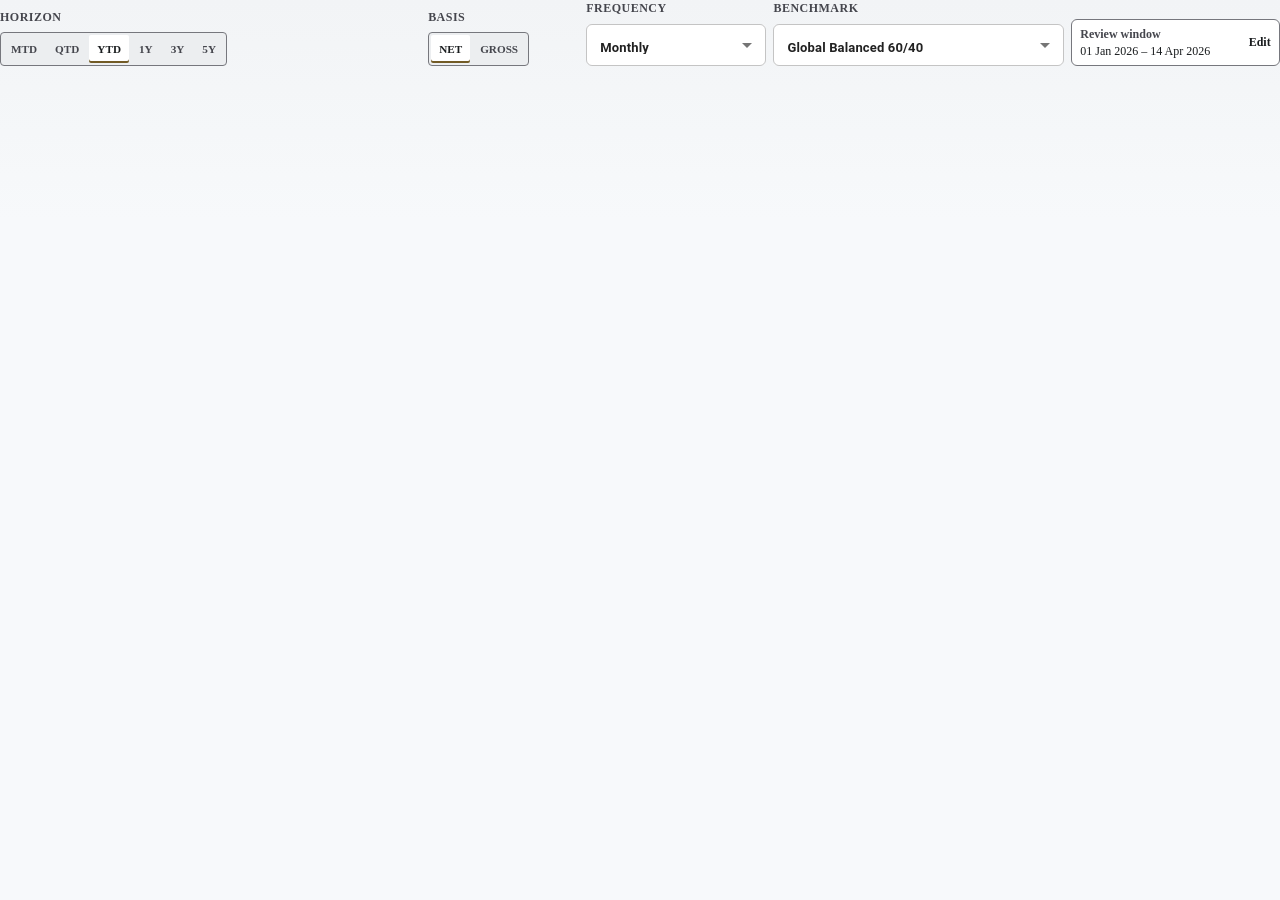
Test case: PerformanceSourceSelectionControls › rejects incomplete, out-of-order, and out-of-bounds drafts before transport
The image size is (1280, 900).
Click the button "Review window 01 Jan 2026 – 14 Apr 2026".
click(1176, 43)  # box left=1071, top=19, right=1279, bottom=66
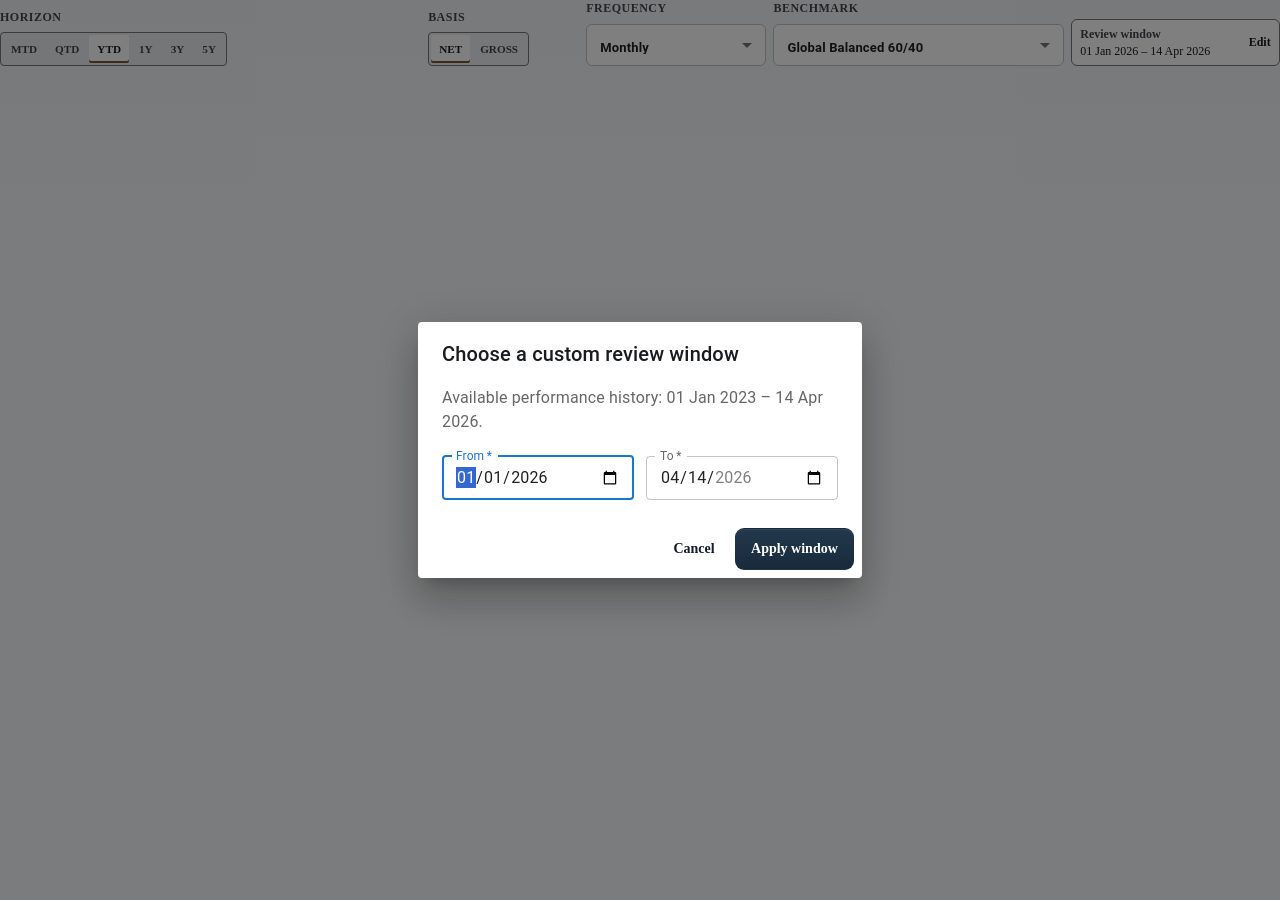
Type "2026-04-10" into the date field labelled "From *".
click(538, 478); type("2026-04-10")  # box left=442, top=458, right=634, bottom=498
Type "2026-03-31" into the date field labelled "To *".
click(742, 478); type("2026-03-31")  # box left=646, top=458, right=838, bottom=498
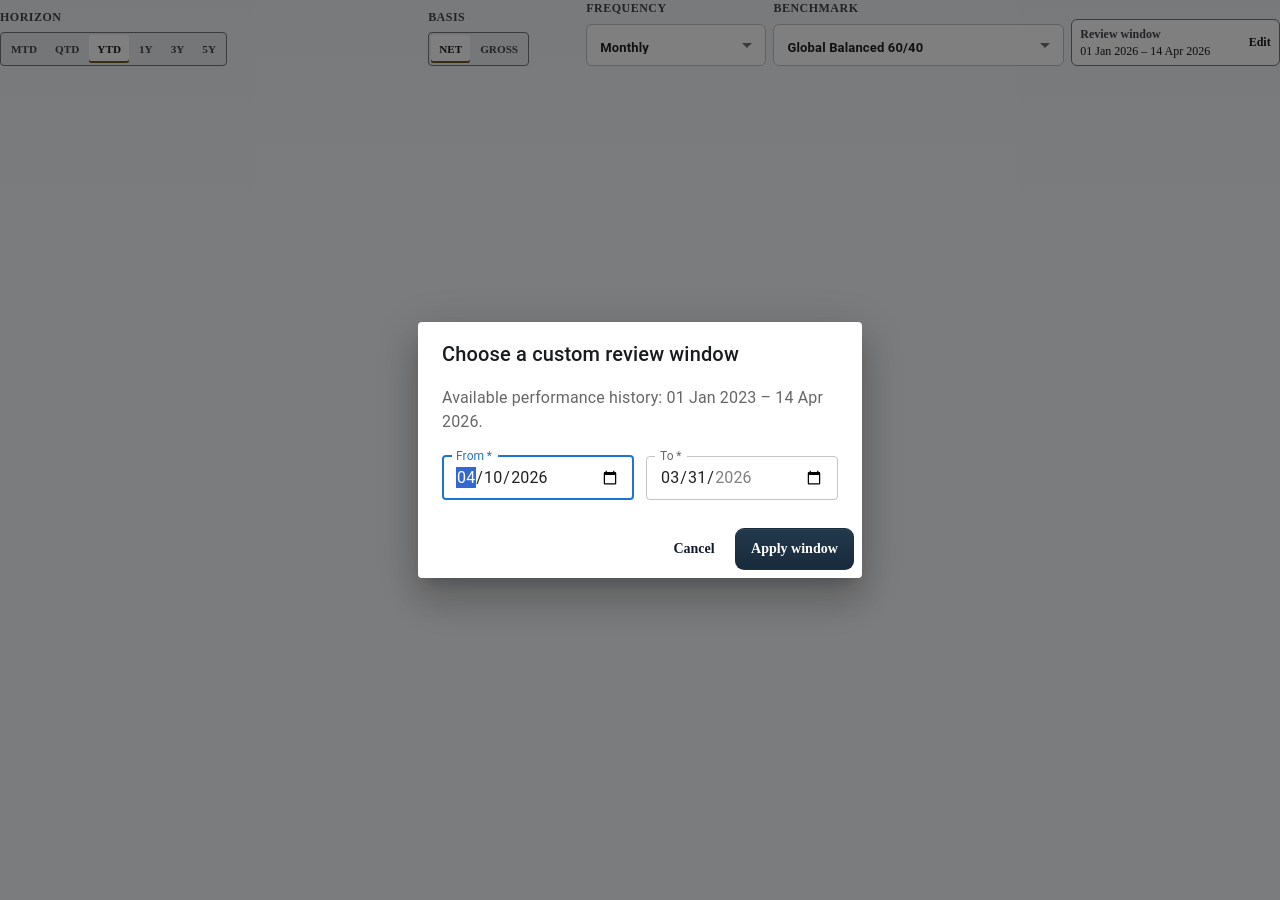
Click the button "Apply window".
click(794, 549)  # box left=735, top=528, right=854, bottom=570
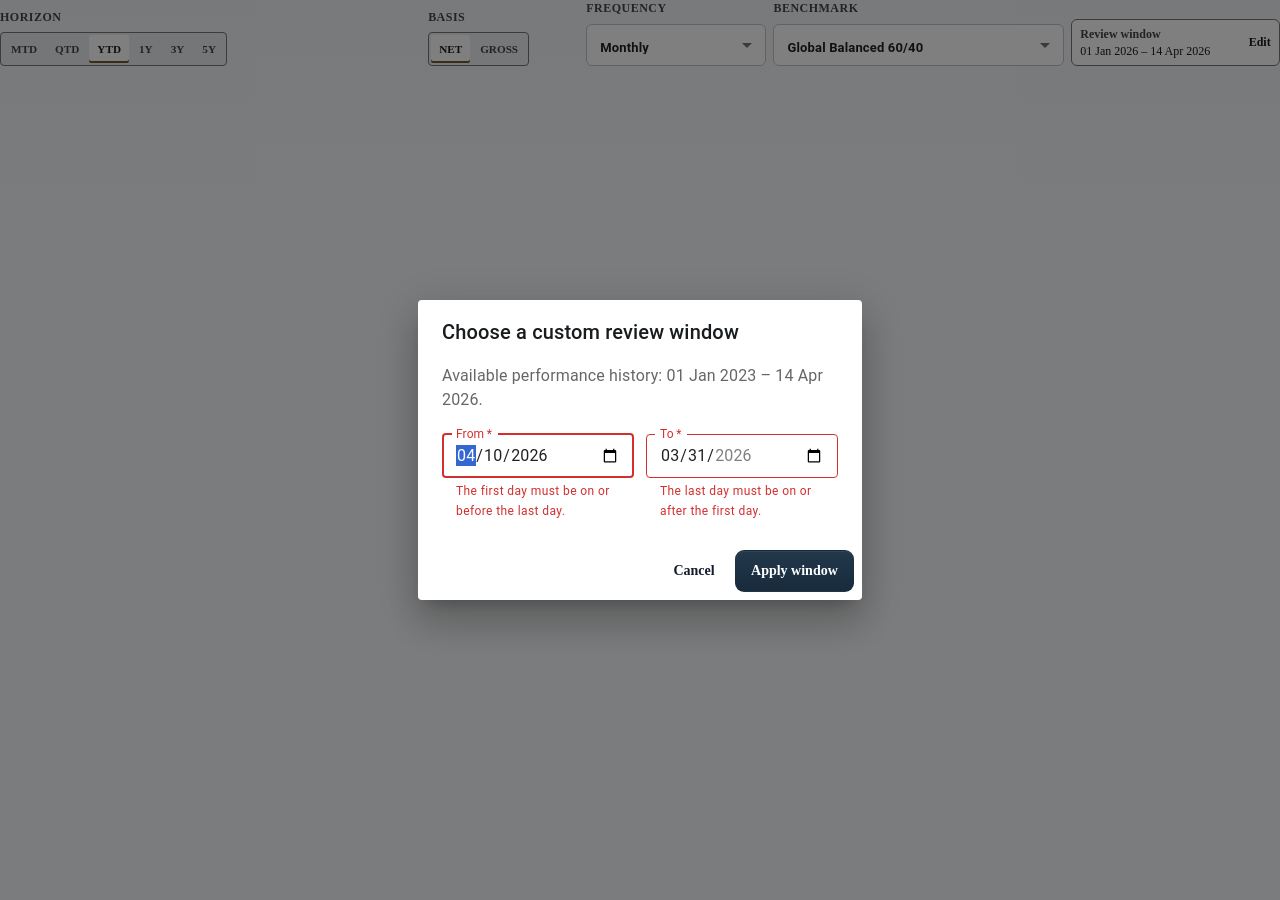
Expected: the text "The first day must be on or before the last day." is shown, left=456, top=482, right=620, bottom=522
Expected: the text "The last day must be on or after the first day." is shown, left=660, top=482, right=824, bottom=522
Type "2022-12-31" into the date field labelled "From *".
click(538, 456); type("2022-12-31")  # box left=442, top=436, right=634, bottom=476
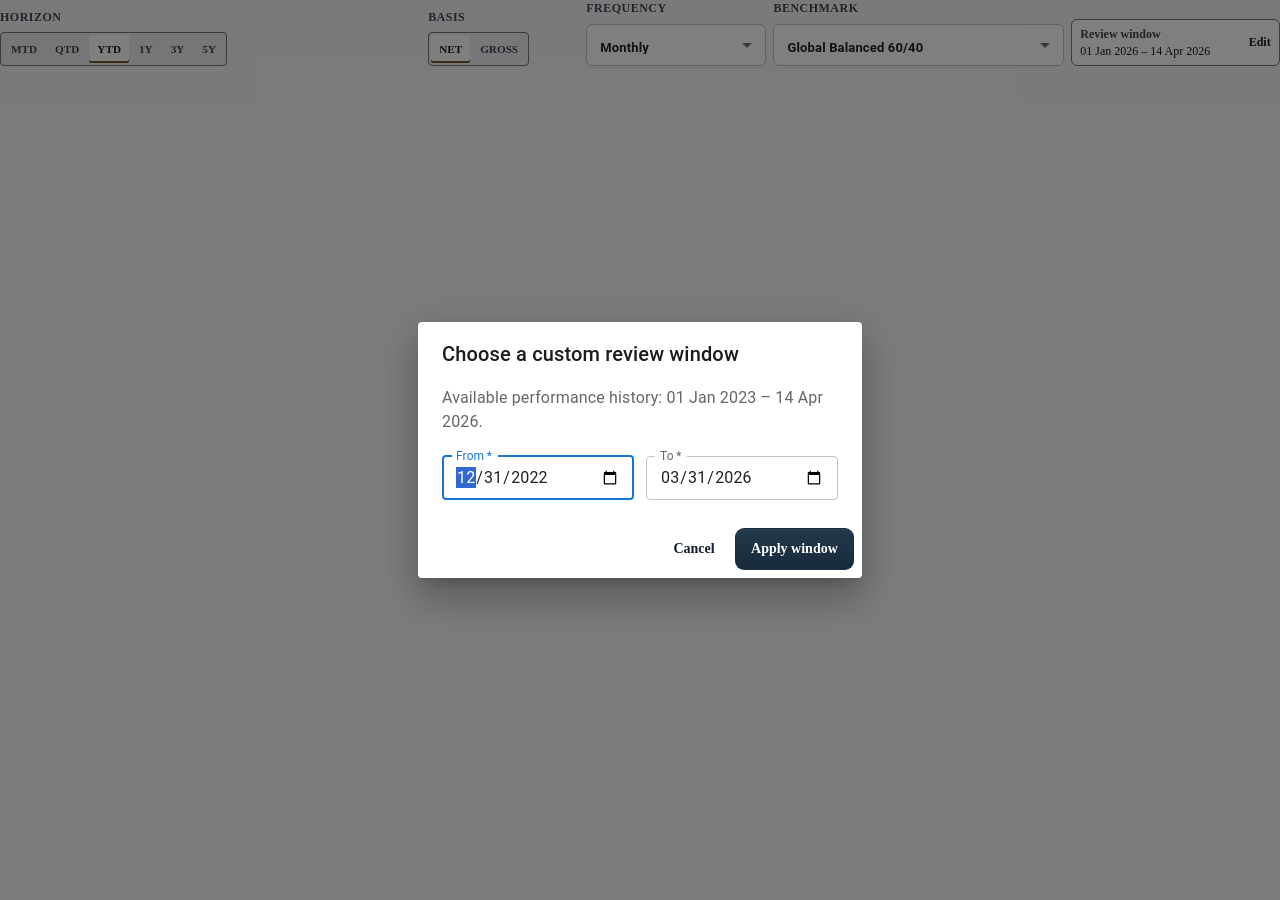
Type "2026-04-15" into the date field labelled "To *".
click(742, 478); type("2026-04-15")  # box left=646, top=458, right=838, bottom=498
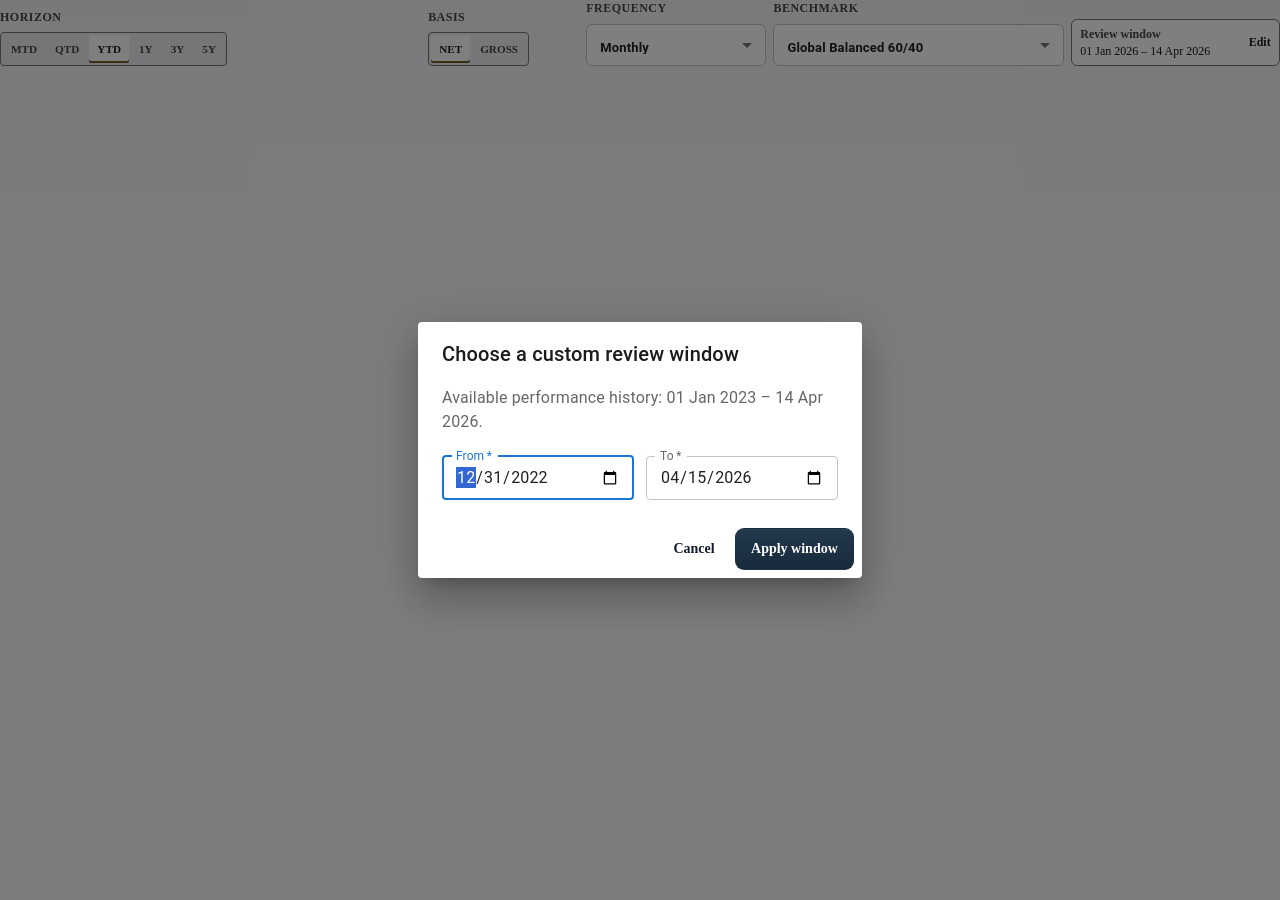
Click the button "Apply window".
click(794, 549)  # box left=735, top=528, right=854, bottom=570
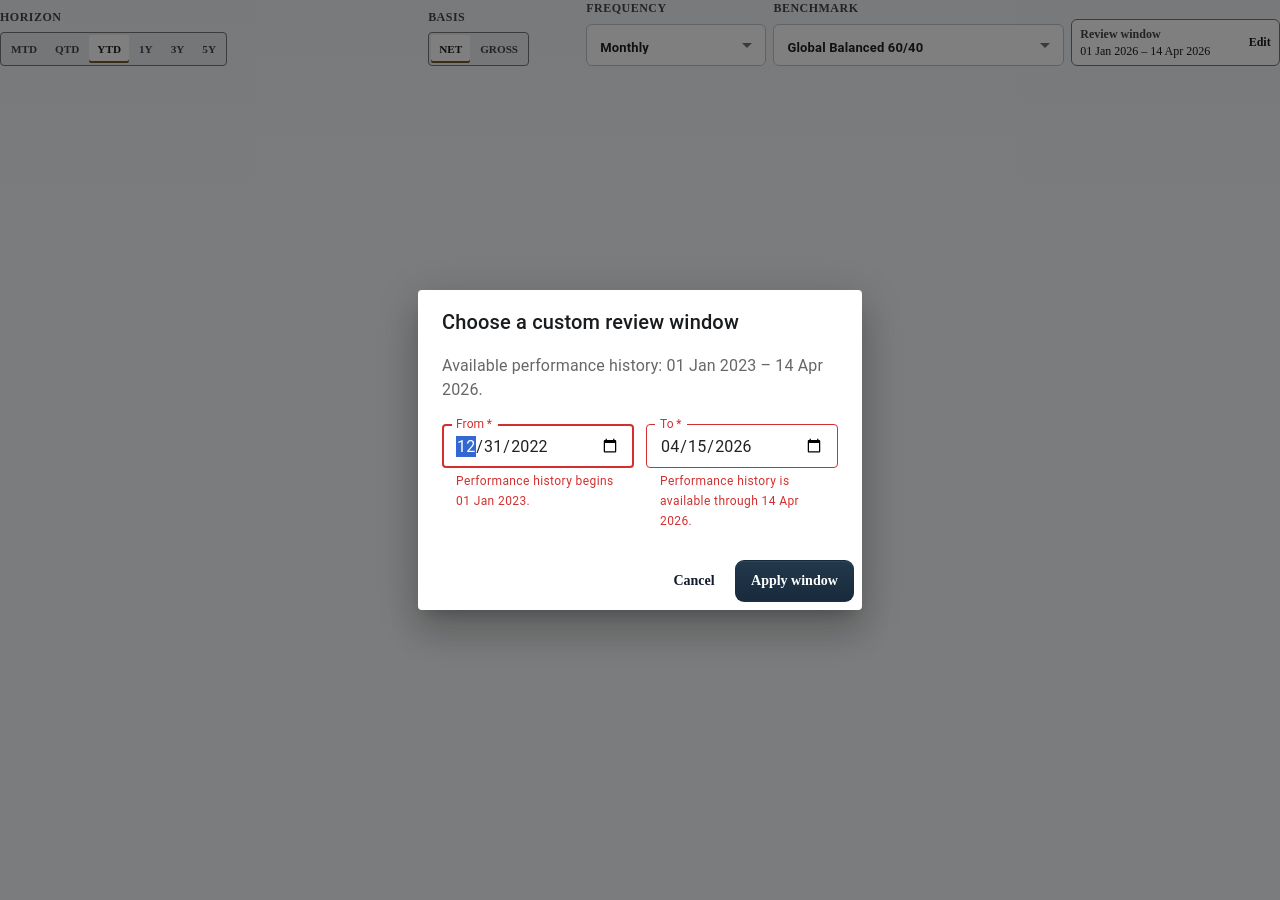
Expected: the text "Performance history begins 01 Jan 2023." is shown, left=456, top=472, right=620, bottom=512
Expected: the text "Performance history is available through 14 Apr 2026." is shown, left=660, top=474, right=799, bottom=528
